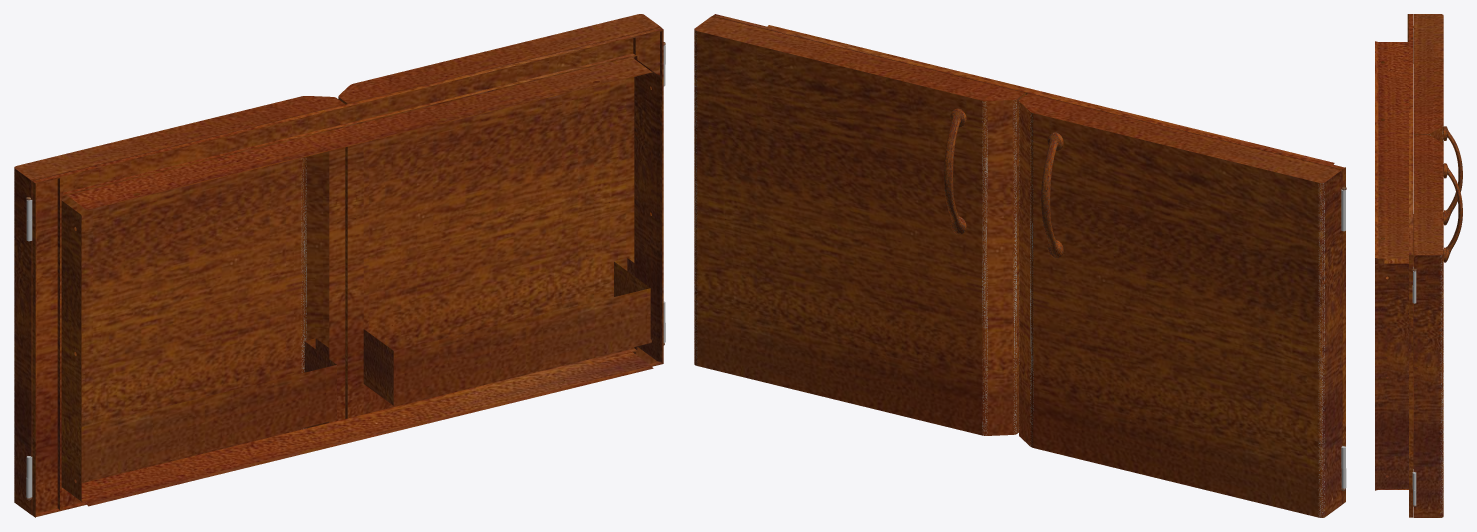
The picture shows the model from 3 angles, left to right: view 1: azimuth 30°, elevation 25°; view 2: azimuth 150°, elevation 25°; view 3: azimuth 270°, elevation 25°; orthographic projection. The views are drawn at different scales.
Visible parts, largest first — view 1: mesh21_mesh21-geometry, mesh12_mesh12-geometry, mesh3_mesh3-geometry, mesh4_mesh4-geometry, mesh13_mesh13-geometry; view 2: mesh12_mesh12-geometry, mesh21_mesh21-geometry, mesh3_mesh3-geometry, mesh20_mesh20-geometry, mesh11_mesh11-geometry; view 3: mesh3_mesh3-geometry, mesh12_mesh12-geometry, mesh21_mesh21-geometry, mesh11_mesh11-geometry, mesh20_mesh20-geometry, mesh13_mesh13-geometry, mesh4_mesh4-geometry.
Boxes of the visible parts, x1,y1,x2,y2 form: mesh21_mesh21-geometry: (14, 96, 345, 514); mesh12_mesh12-geometry: (338, 14, 661, 418); mesh3_mesh3-geometry: (32, 27, 663, 517); mesh4_mesh4-geometry: (363, 258, 650, 405); mesh13_mesh13-geometry: (81, 338, 336, 481); mesh12_mesh12-geometry: (694, 16, 1025, 435); mesh21_mesh21-geometry: (1019, 93, 1342, 517); mesh3_mesh3-geometry: (712, 14, 1345, 504); mesh20_mesh20-geometry: (1041, 132, 1063, 258); mesh11_mesh11-geometry: (944, 108, 966, 234); mesh3_mesh3-geometry: (1375, 14, 1413, 517); mesh12_mesh12-geometry: (1413, 135, 1443, 517); mesh21_mesh21-geometry: (1413, 14, 1443, 143); mesh11_mesh11-geometry: (1443, 163, 1462, 262); mesh20_mesh20-geometry: (1443, 126, 1462, 225); mesh13_mesh13-geometry: (1384, 214, 1413, 333); mesh4_mesh4-geometry: (1386, 334, 1413, 475).
Bounding box in the file's own units: 0.8863 × 0.4433 × 0.1344.
